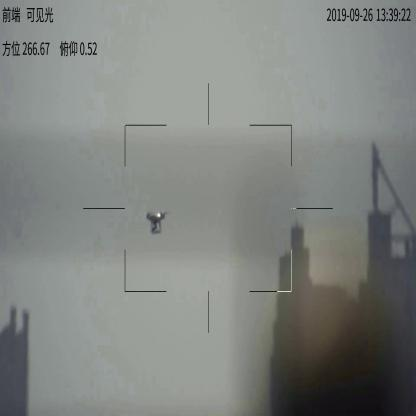uav: (146, 211, 170, 234)
